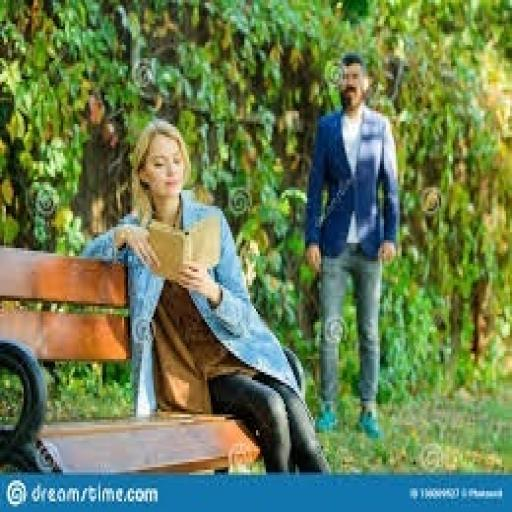sitting: (79, 116, 331, 475), (301, 50, 402, 441)
